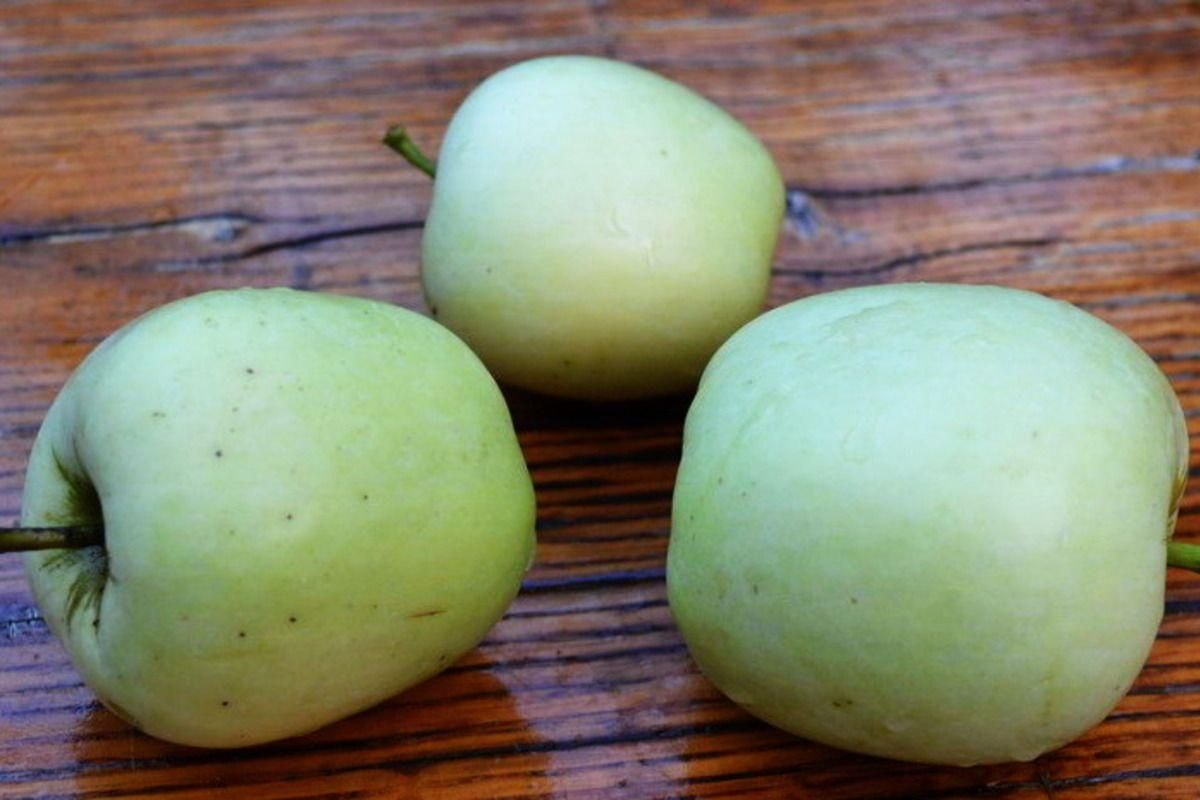Apple: (22, 290, 533, 748), (669, 280, 1150, 765), (427, 38, 782, 372)
